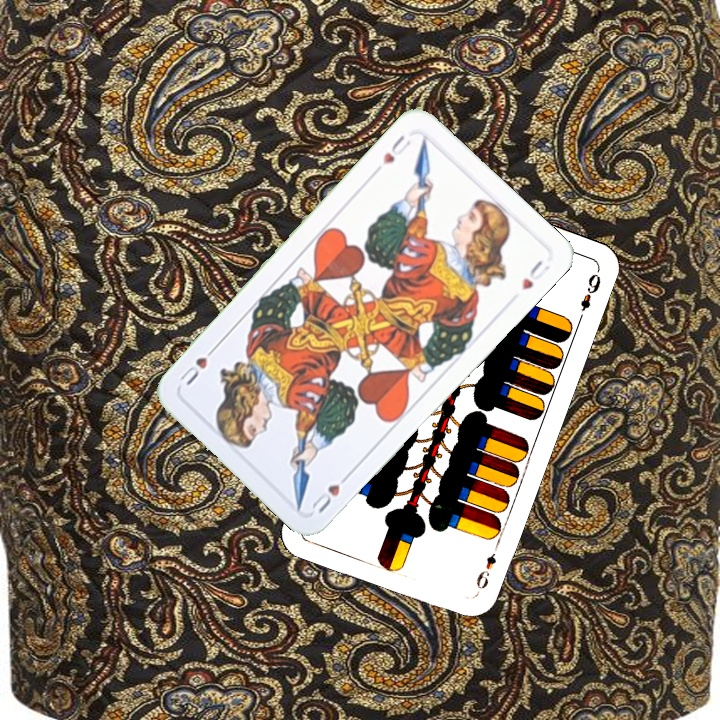E9: (472, 549, 499, 596)
HU: (307, 468, 354, 516), (378, 131, 414, 167)
